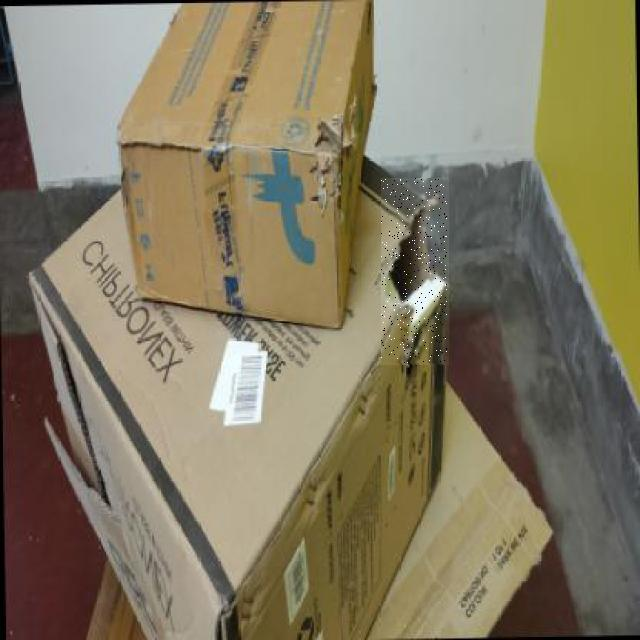leakage: (382, 179, 447, 363)
